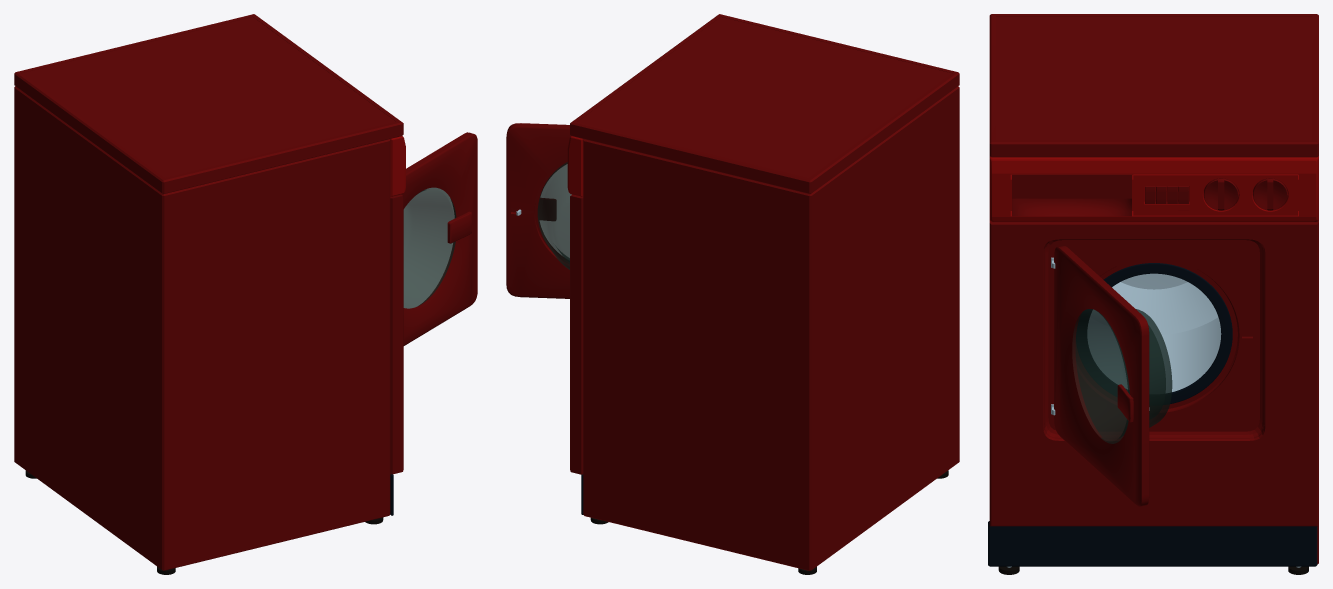
Rendered from Labadora.FBX.
The picture shows the model from 3 angles, left to right: view 1: azimuth 30°, elevation 25°; view 2: azimuth 150°, elevation 25°; view 3: azimuth 270°, elevation 25°; orthographic projection. The views are drawn at different scales.
Visible parts, largest first — view 1: WAMAbo01, WAMAdo01, WAMAgl02, WAMAfr01, WAMAop01; view 2: WAMAbo01, WAMAdo01, WAMAgl02, WAMAfr01; view 3: WAMAbo01, WAMAfr01, WAMAbo02, WAMAdo01, WAMAgl02, WAMAbx01, WAMAdr01, WAMAdr02, WAMAjo01, WAMAdi02, WAMAdi01, WAMAop01.
Boxes of the visible parts, left/top/right/bottom form: WAMAbo01: left=14, top=14, right=403, bottom=570; WAMAdo01: left=401, top=132, right=477, bottom=345; WAMAgl02: left=403, top=187, right=456, bottom=308; WAMAfr01: left=390, top=136, right=405, bottom=196; WAMAop01: left=447, top=211, right=472, bottom=243; WAMAbo01: left=570, top=14, right=959, bottom=570; WAMAdo01: left=506, top=123, right=570, bottom=298; WAMAgl02: left=537, top=162, right=571, bottom=269; WAMAfr01: left=567, top=136, right=583, bottom=196; WAMAbo01: left=989, top=14, right=1318, bottom=564; WAMAfr01: left=989, top=156, right=1318, bottom=221; WAMAbo02: left=988, top=521, right=1317, bottom=566; WAMAdo01: left=1054, top=246, right=1149, bottom=506; WAMAgl02: left=1072, top=309, right=1172, bottom=443; WAMAbx01: left=1012, top=174, right=1131, bottom=216; WAMAdr01: left=1087, top=317, right=1221, bottom=392; WAMAdr02: left=1090, top=273, right=1218, bottom=334; WAMAjo01: left=1076, top=263, right=1232, bottom=404; WAMAdi02: left=1253, top=178, right=1287, bottom=210; WAMAdi01: left=1204, top=178, right=1238, bottom=210; WAMAop01: left=1117, top=384, right=1133, bottom=422.
Size of the model in its own units: 4225 by 4195 by 2862.
